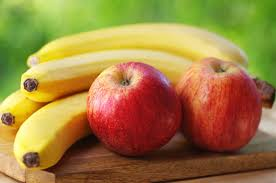apple: (169, 60, 263, 151), (94, 62, 185, 150)
